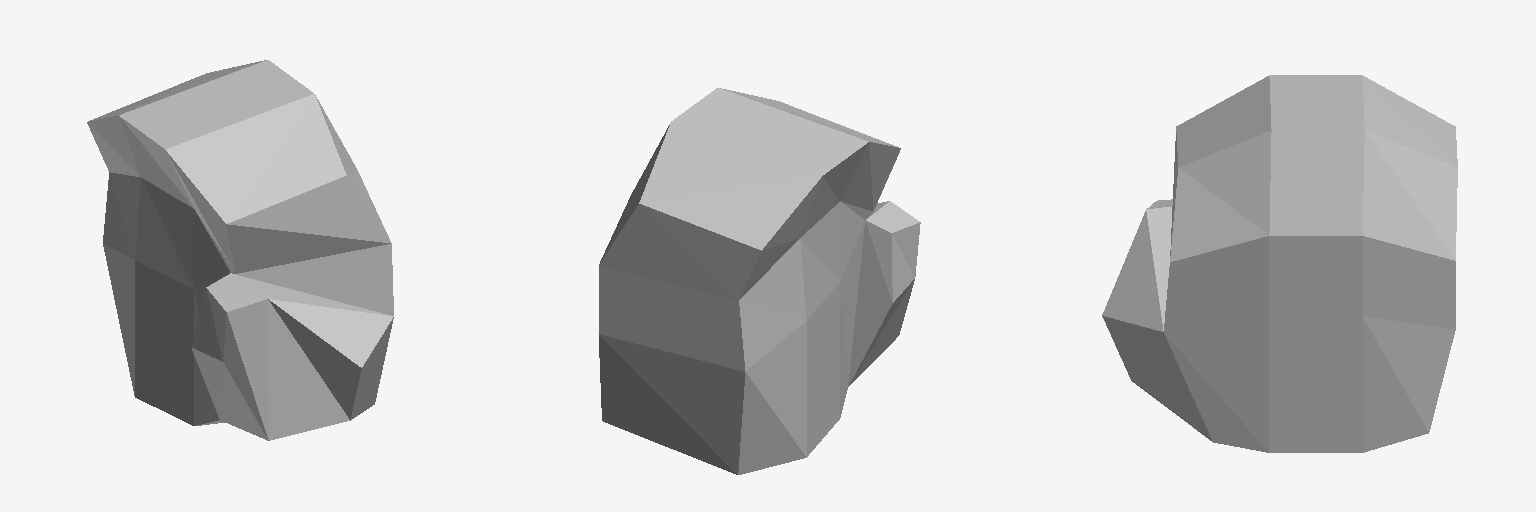
The model's file is boxing glove.obj.
3 renders of one model, left to right at view 1: azimuth 30°, elevation 25°; view 2: azimuth 150°, elevation 25°; view 3: azimuth 270°, elevation 25°, orthographic.
Parts seen in each view (by area): view 1: Cube; view 2: Cube; view 3: Cube.
Boxes of the visible parts, box(x1,y1,x2,y2) form: Cube: box(87, 60, 393, 440); Cube: box(599, 88, 920, 474); Cube: box(1102, 75, 1457, 452).
Size of the model in its own units: 1.59 by 2.4 by 2.55.